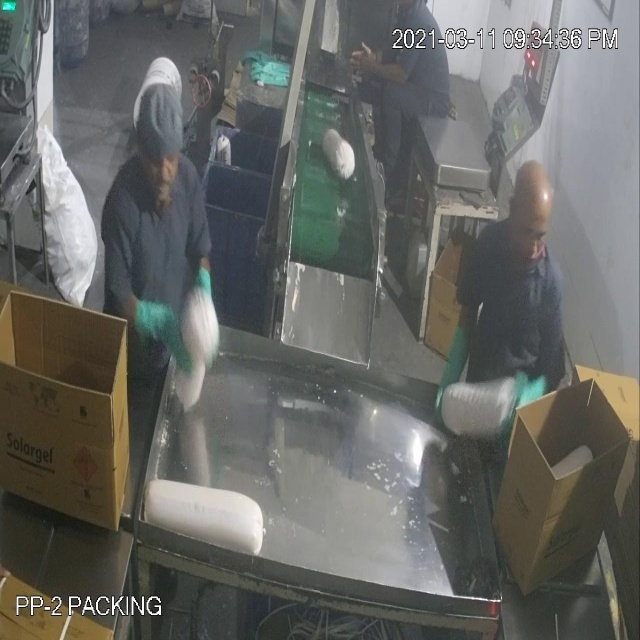Sin_guantes: (344, 53, 413, 107)
